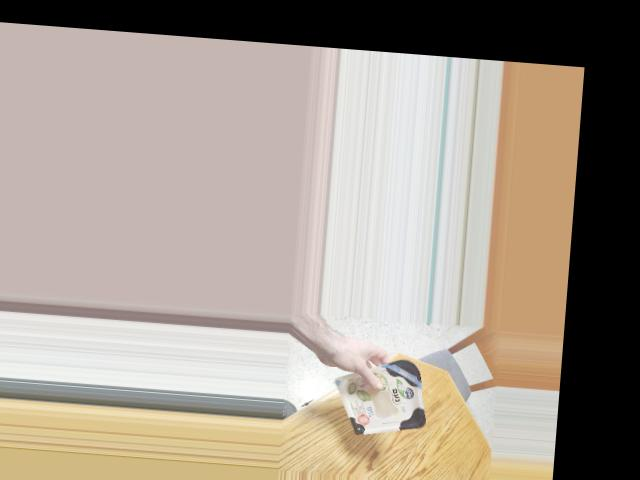cheese: (346, 358, 427, 437)
